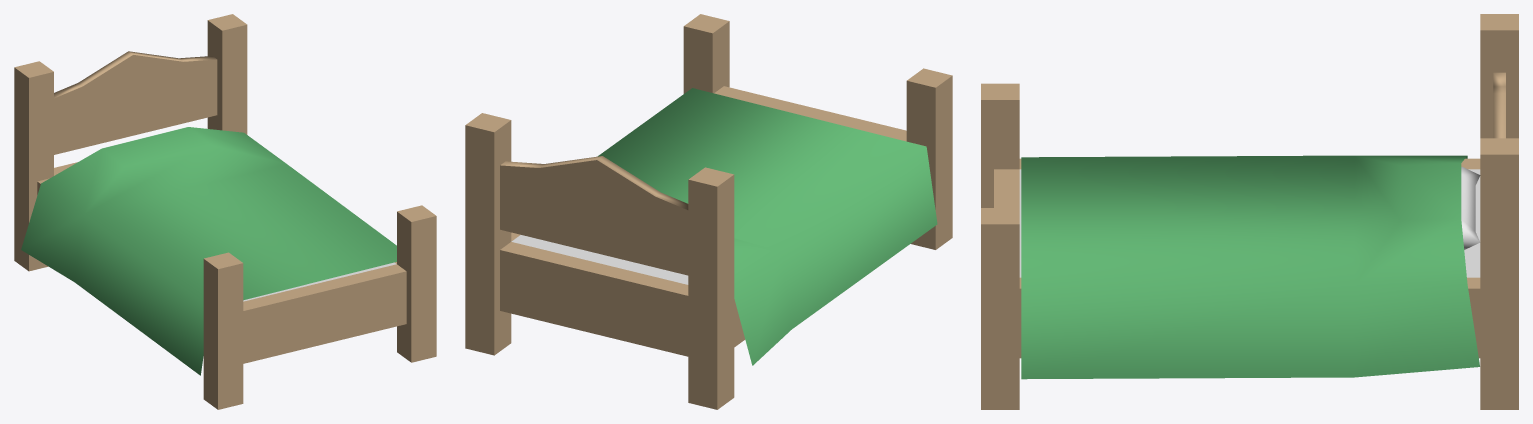
The model's file is bed.glb.
The picture shows the model from 3 angles, left to right: view 1: azimuth 30°, elevation 25°; view 2: azimuth 150°, elevation 25°; view 3: azimuth 270°, elevation 25°; orthographic projection. The views are drawn at different scales.
Parts seen in each view (by area): view 1: Blanket, Bed; view 2: Bed, Blanket; view 3: Blanket, Bed, Pillow.
Boxes of the visible parts, <box> form: Blanket: <box>21,127,396,375</box>; Bed: <box>14,14,436,409</box>; Bed: <box>465,14,952,409</box>; Blanket: <box>597,88,937,365</box>; Blanket: <box>1021,155,1479,379</box>; Bed: <box>981,14,1518,409</box>; Pillow: <box>1461,167,1480,249</box>.
Bounding box in the file's own units: 1.41 × 1.1 × 2.1.
